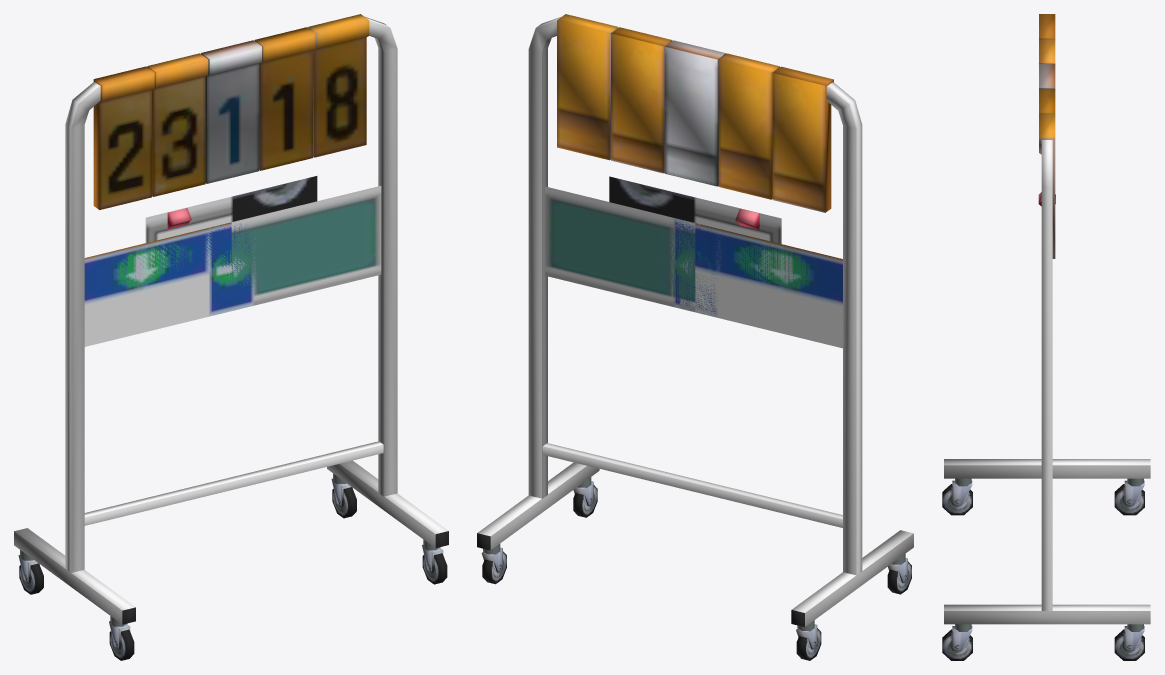
Rendered from int_sch_scoreboard.dae.
The picture shows the model from 3 angles, left to right: view 1: azimuth 30°, elevation 25°; view 2: azimuth 150°, elevation 25°; view 3: azimuth 270°, elevation 25°; orthographic projection. The views are drawn at different scales.
Parts seen in each view (by area): view 1: int_sch_scoreboard; view 2: int_sch_scoreboard; view 3: int_sch_scoreboard.
Boxes of the visible parts, x1,y1,x2,y2 form: int_sch_scoreboard: (14, 14, 448, 660); int_sch_scoreboard: (477, 14, 913, 660); int_sch_scoreboard: (942, 14, 1150, 660).
Bounding box in the file's own units: 29.2 × 45.74 × 16.92.
Materials: 1 (1 with a texture image).
